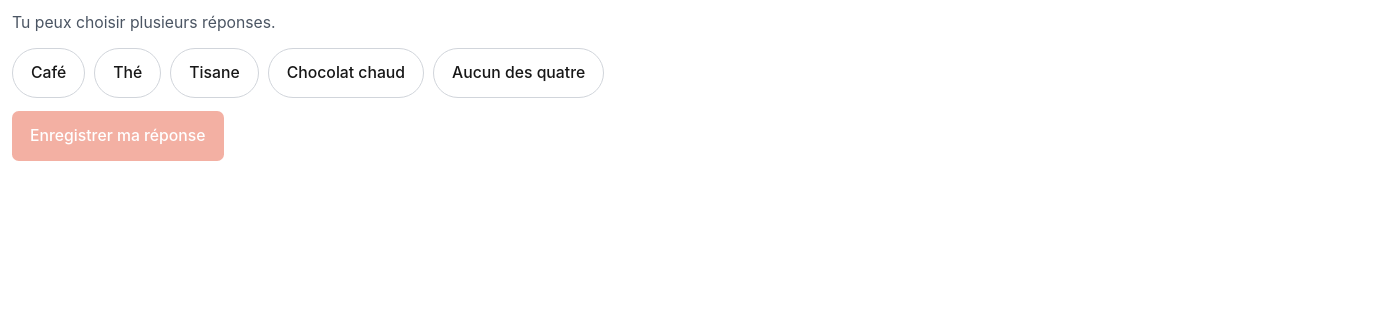
Test: <AnswerInput /> › précision repliée jusqu’au choix, puis facultative
Check: the button "Ajouter quelques mots (facultatif)" is not shown
Click the button "Thé".
click(128, 73)  # box [94,48,161,98]
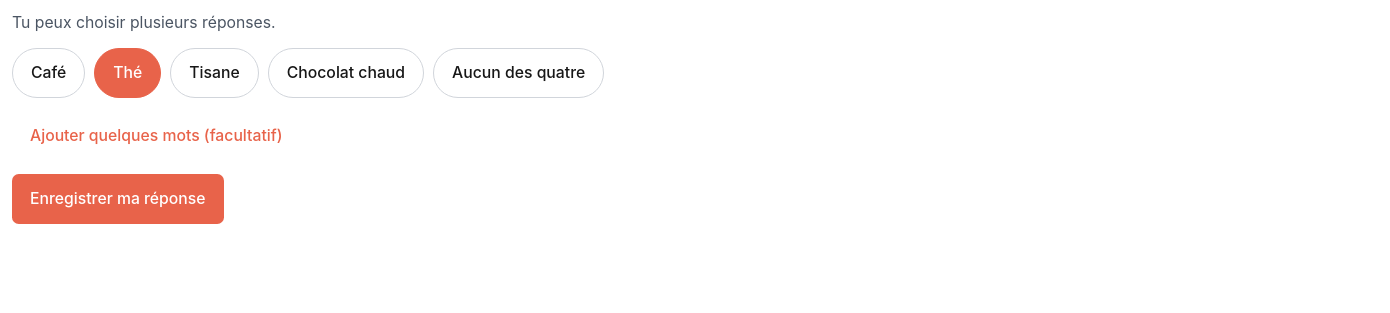
Click the button "Ajouter quelques mots (facultatif)".
click(156, 136)  # box [12,111,301,160]
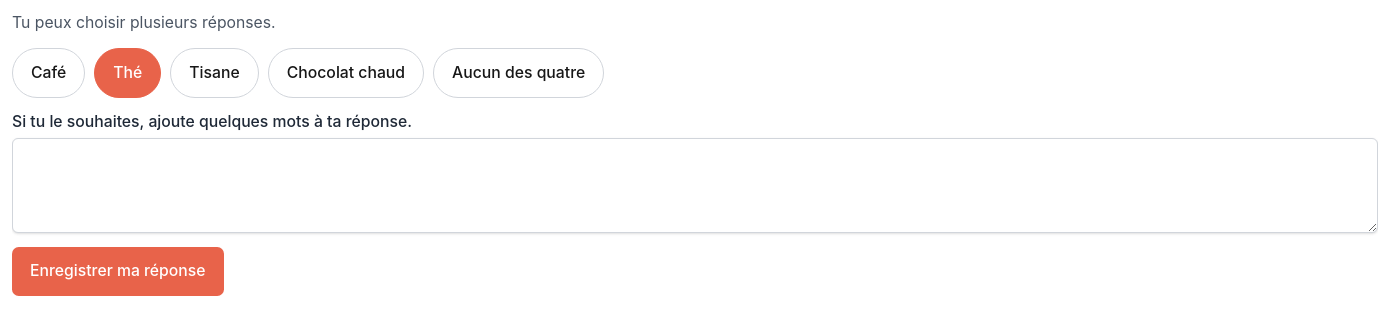
Check: the text box labelled "Si tu le souhaites, ajoute quelques mots à ta réponse." is shown, box [12,138,1378,233]
